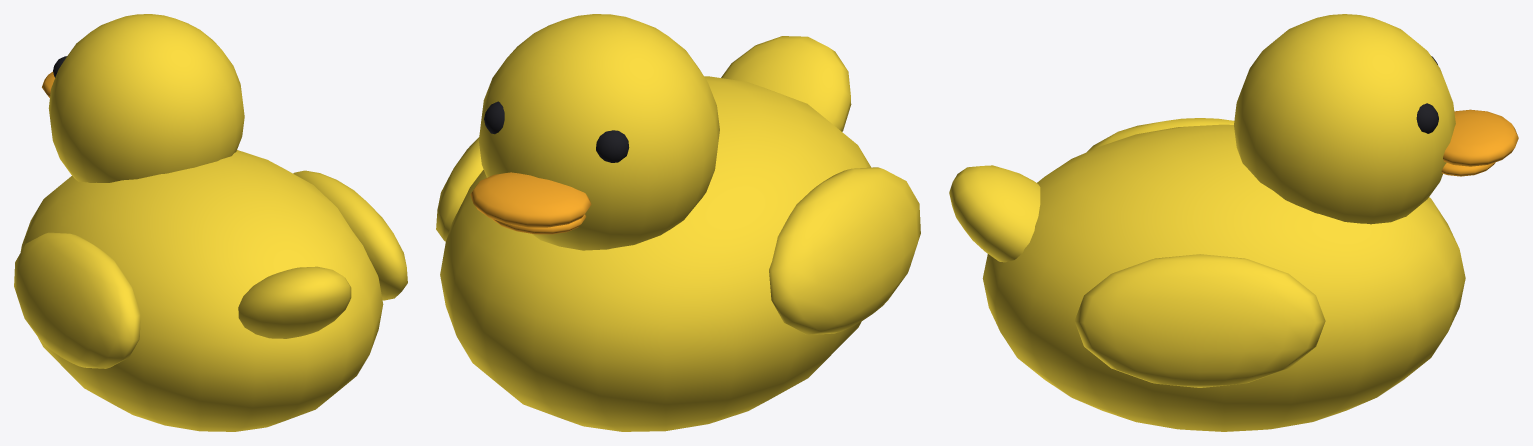
Rendered from FISH_RUBBERDUCK.glb.
3 views of the same model, side by side, from view 1: azimuth 30°, elevation 25°; view 2: azimuth 150°, elevation 25°; view 3: azimuth 270°, elevation 25° (orthographic). The views are drawn at different scales.
Visible parts, largest first — view 1: DuckYellow; view 2: DuckYellow, Beak, Eye; view 3: DuckYellow, Beak, Eye.
Part boxes in pixels (x1,y1,x2,y2): DuckYellow: (14,14,407,431); DuckYellow: (436,14,920,431); Beak: (470,172,591,234); Eye: (484,101,629,162); DuckYellow: (949,14,1465,431); Beak: (1441,109,1518,176); Eye: (1416,56,1438,133).
Bounding box in the file's own units: 0.6088 × 0.6 × 0.8042.
